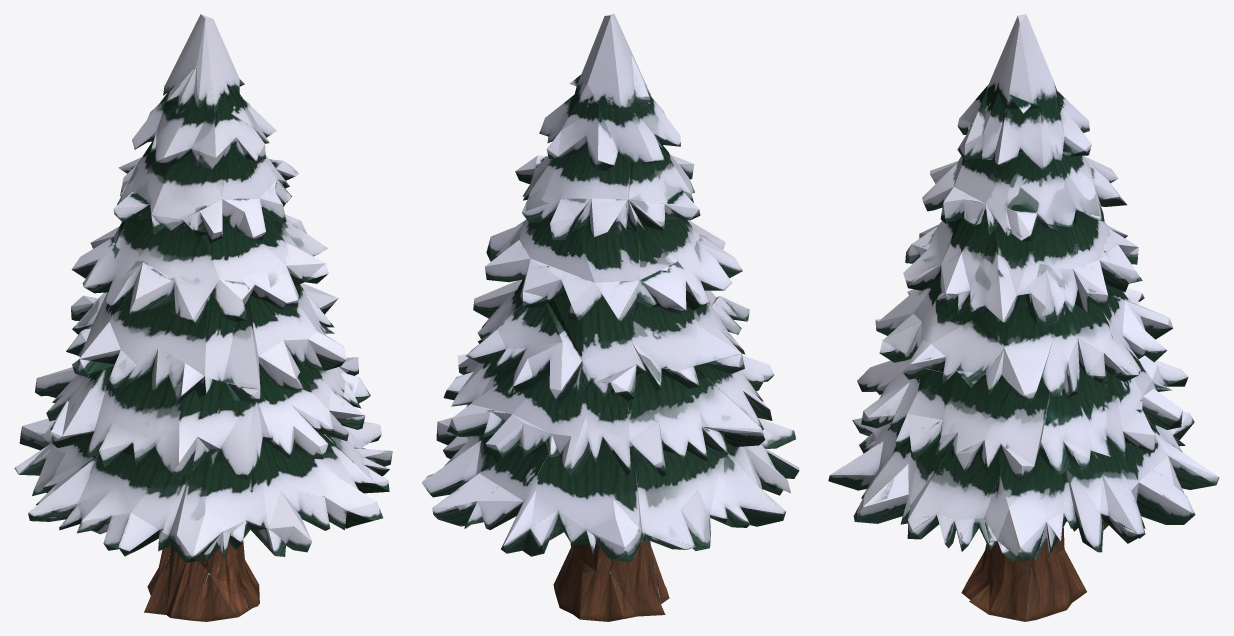
The model's file is tree_spruce_winter.glb.
The picture shows the model from 3 angles, left to right: view 1: azimuth 30°, elevation 25°; view 2: azimuth 150°, elevation 25°; view 3: azimuth 270°, elevation 25°; orthographic projection.
Parts seen in each view (by area): view 1: Mesh_0; view 2: Mesh_0; view 3: Mesh_0.
Boxes of the visible parts, x1=… form: Mesh_0: x1=14, y1=14, x2=392, y2=621; Mesh_0: x1=421, y1=14, x2=799, y2=621; Mesh_0: x1=828, y1=14, x2=1219, y2=621.
Size of the model in its own units: 1.18 by 1.89 by 1.15.
1 material, 1 textured.
